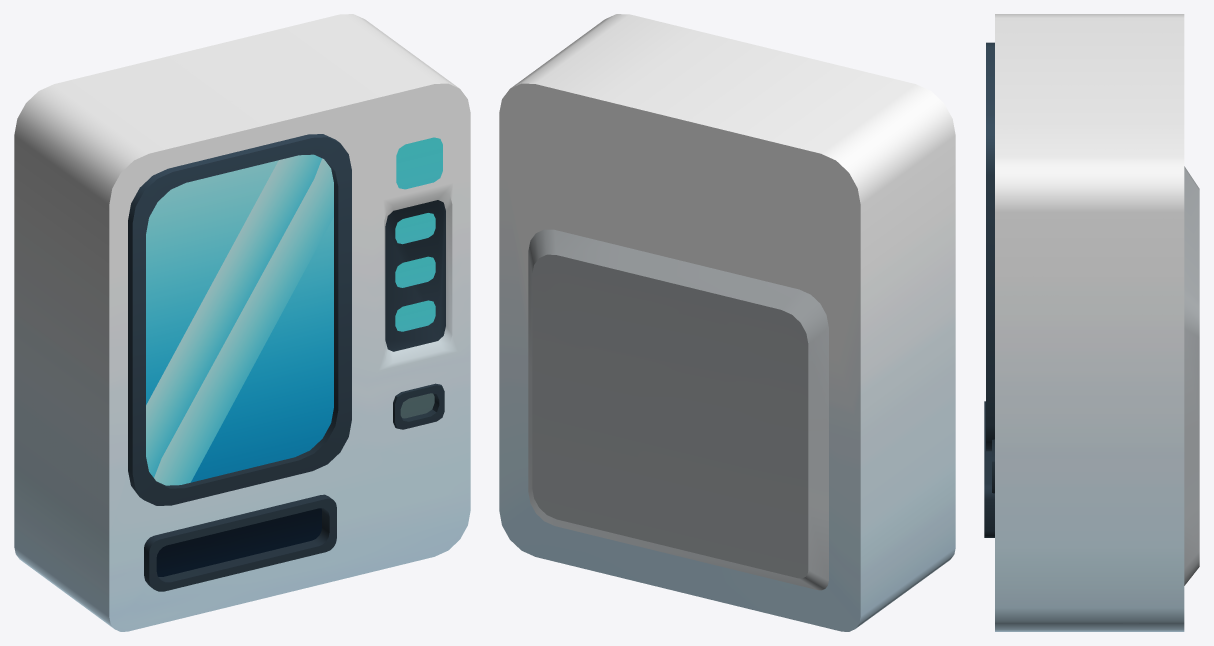
The model's file is VendingMachine.fbx.
The picture shows the model from 3 angles, left to right: view 1: azimuth 30°, elevation 25°; view 2: azimuth 150°, elevation 25°; view 3: azimuth 270°, elevation 25°; orthographic projection.
Visible parts, largest first — view 1: Vendingmachine; view 2: Vendingmachine; view 3: Vendingmachine.
Part boxes in pixels (x1,y1,x2,y2): Vendingmachine: (14, 14, 470, 631); Vendingmachine: (499, 14, 955, 631); Vendingmachine: (984, 14, 1199, 631).
Size of the model in its own units: 400 by 500 by 207.
